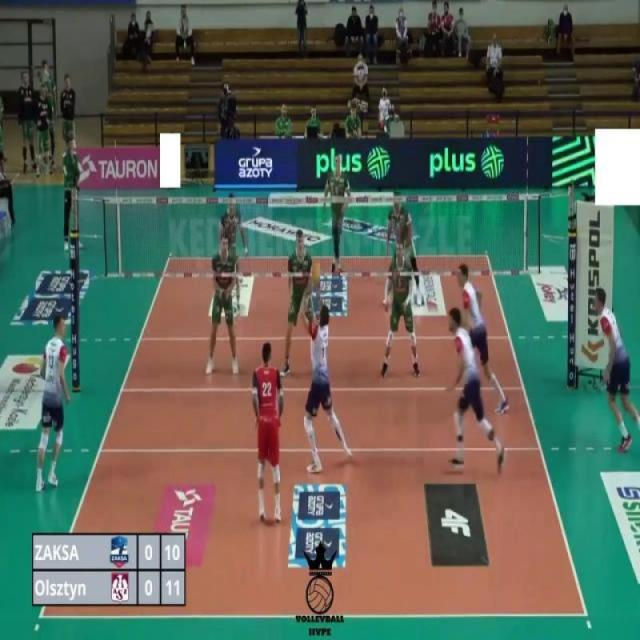volleyball: (308, 262, 322, 292)
